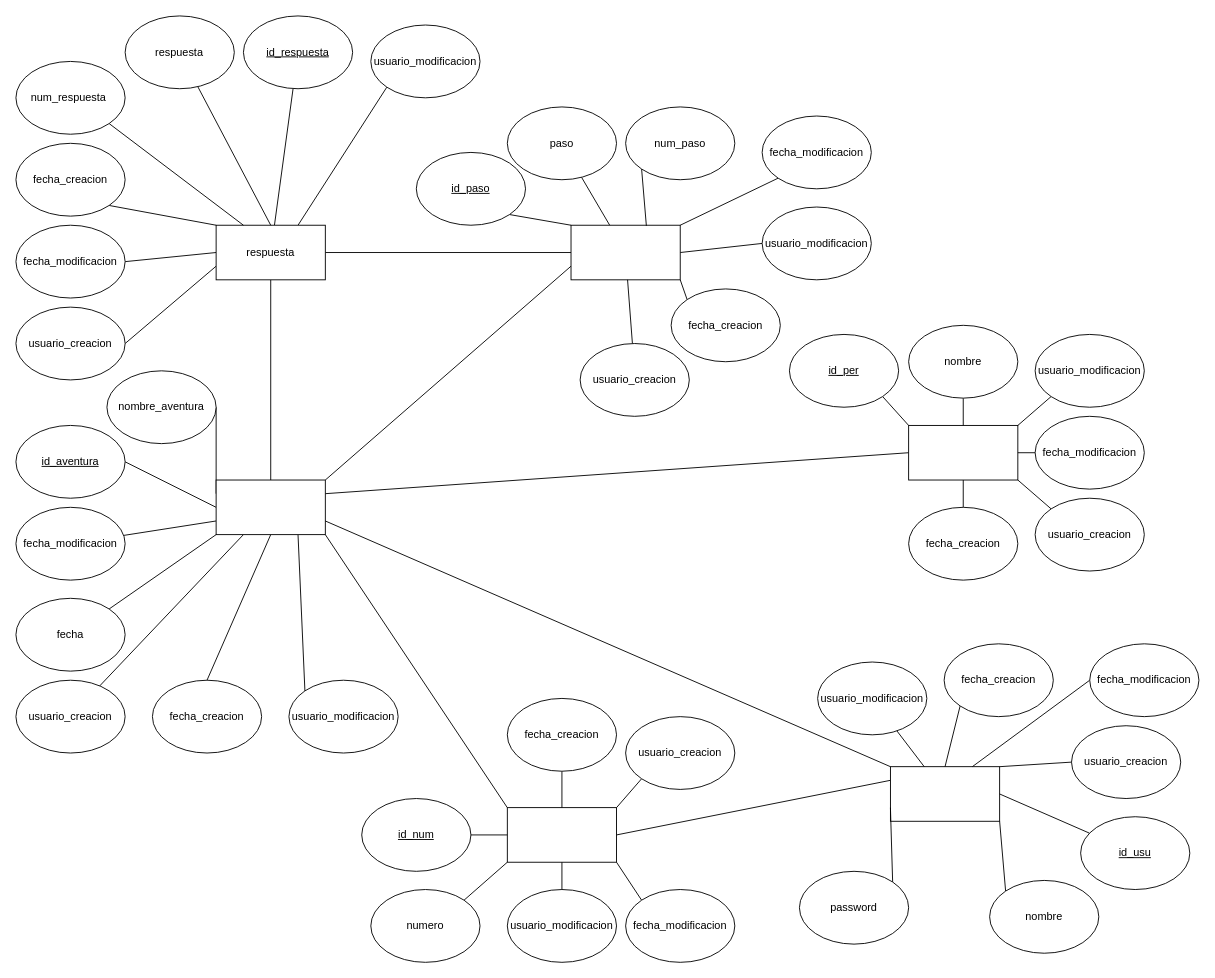
This 1215x978 diagram has some shape labels left out. The shapes that lost their labels are listed below. From the top down, each one's centre as x and y in pixels, then its label:
At point (625, 252): "pasos".
At point (963, 452): "personajes".
At point (270, 507): "aventura".
At point (945, 793): "usuarios".
At point (561, 834): "repeticiones".
